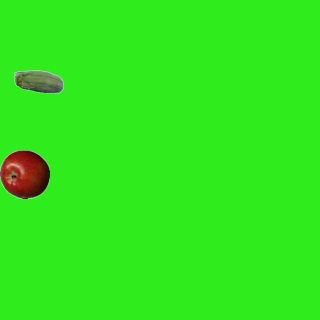Apple Braeburn: (0, 149, 49, 199)
Corn Husk: (13, 58, 63, 108)
